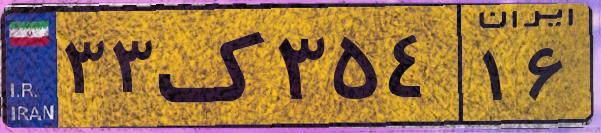1: (475, 38, 525, 113)
3: (270, 28, 330, 110), (57, 26, 110, 100), (110, 28, 158, 98)
4: (385, 28, 445, 110)
5: (330, 28, 385, 110)
6: (525, 38, 570, 115)
ک: (158, 12, 270, 120)
